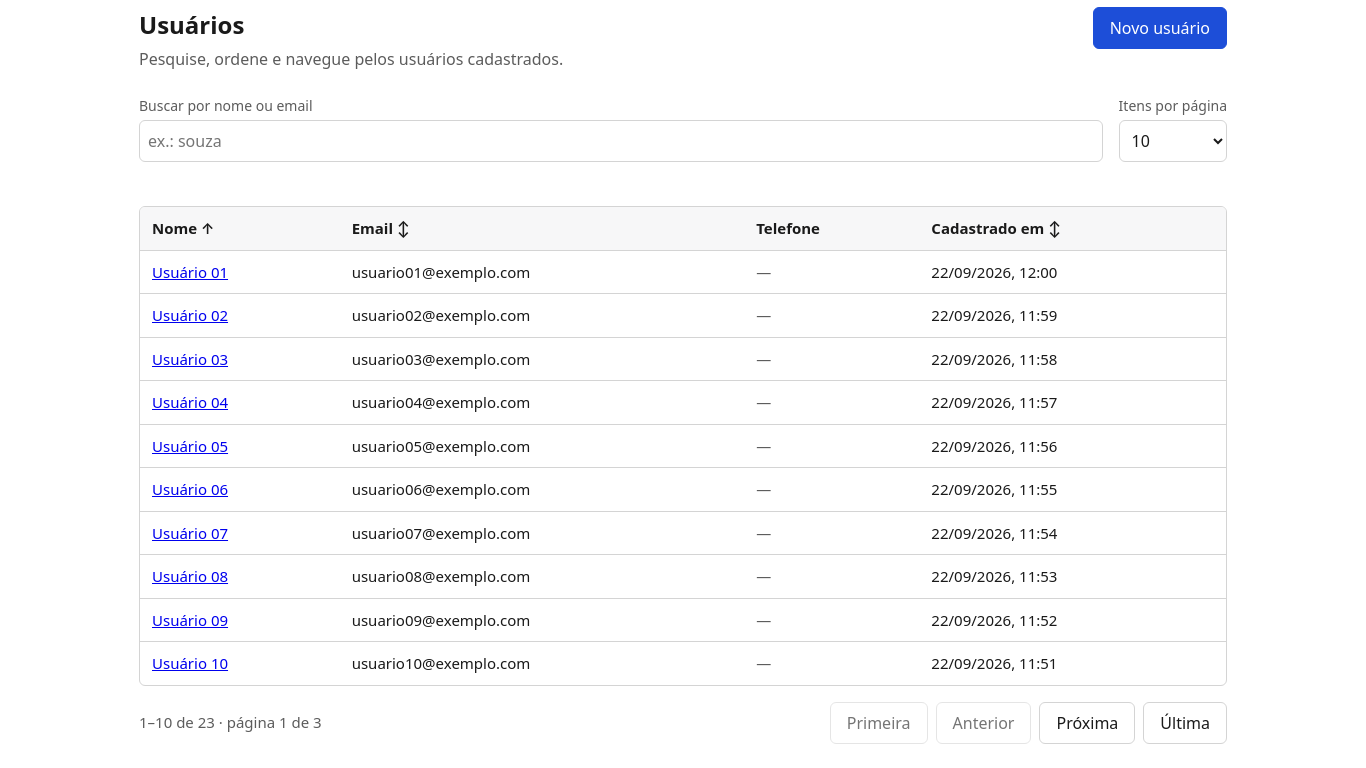
Test case: percurso: buscar, paginar e abrir um usuário › percorre as páginas sem repetir nem perder registros
(page scrolled)
Expected: the table is shown, [140,207,1226,684]
Expected: the text "1–10 de 23 · página 1 de 3" is shown, [139,711,322,734]
What coordinates should you click on to do the following:
click the button "Próxima"
I would click on:
 (1087, 722)
Its box is [1040,702,1135,744].
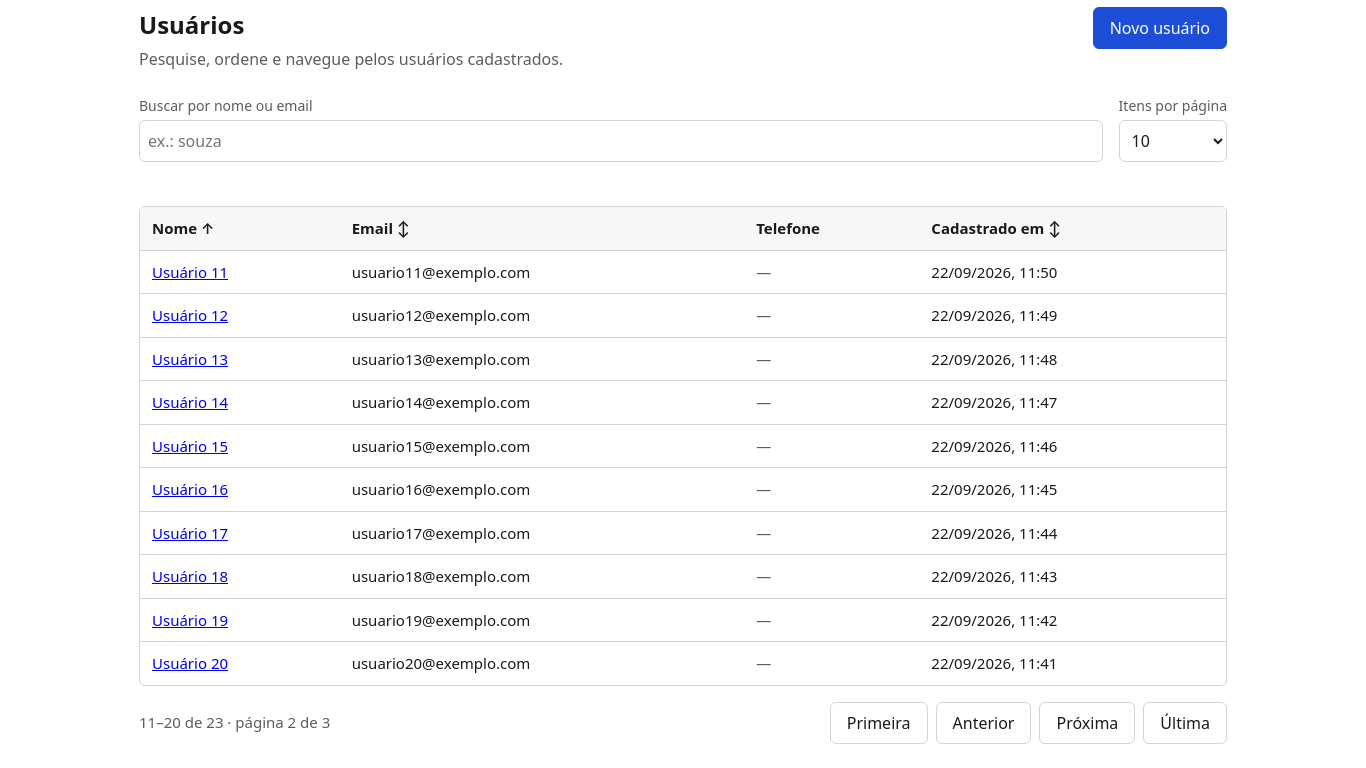
Now the text "11–20 de 23 · página 2 de 3" is shown, box [139,711,330,734]
What coordinates should you click on to do the following:
click the button "Última"
I would click on:
 (1185, 722)
Its box is [1143,702,1227,744].
(page scrolled)
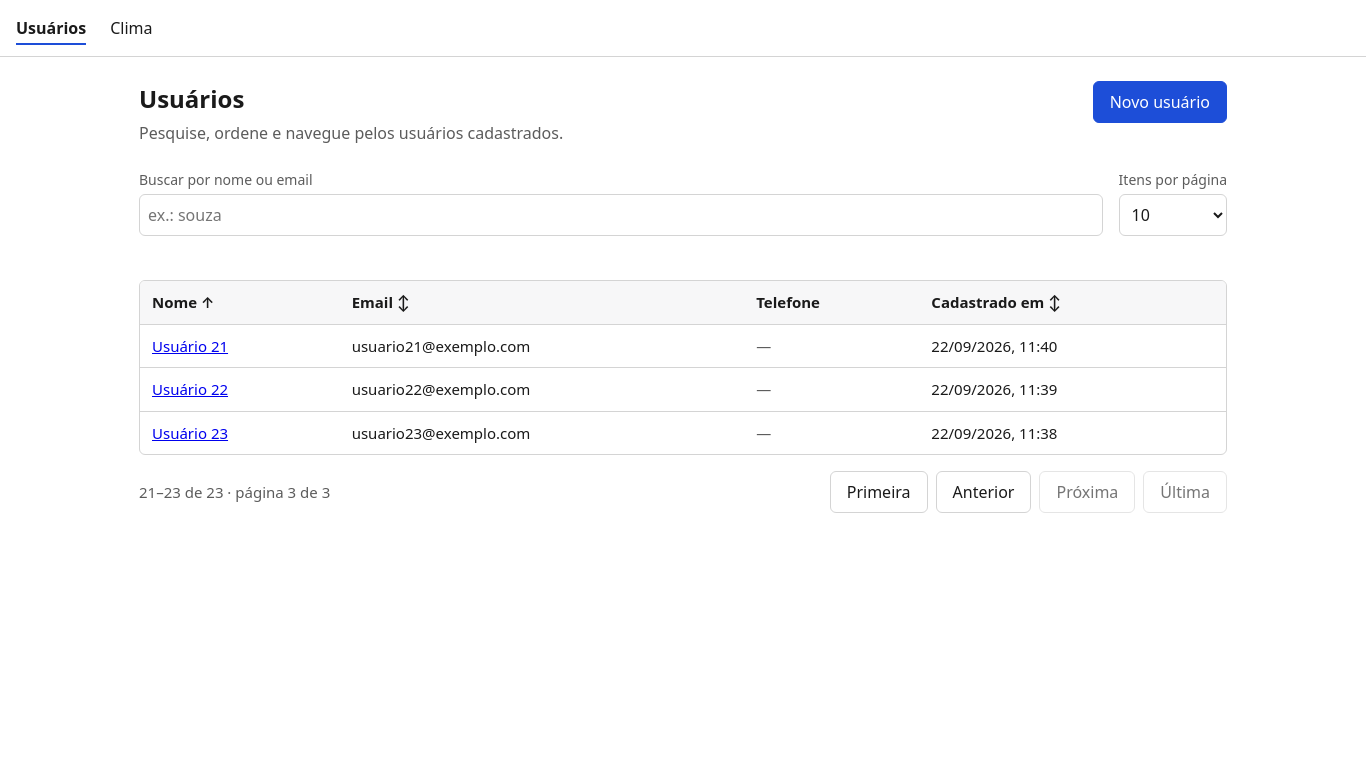
Now the text "21–23 de 23 · página 3 de 3" is shown, box [139,481,330,503]
